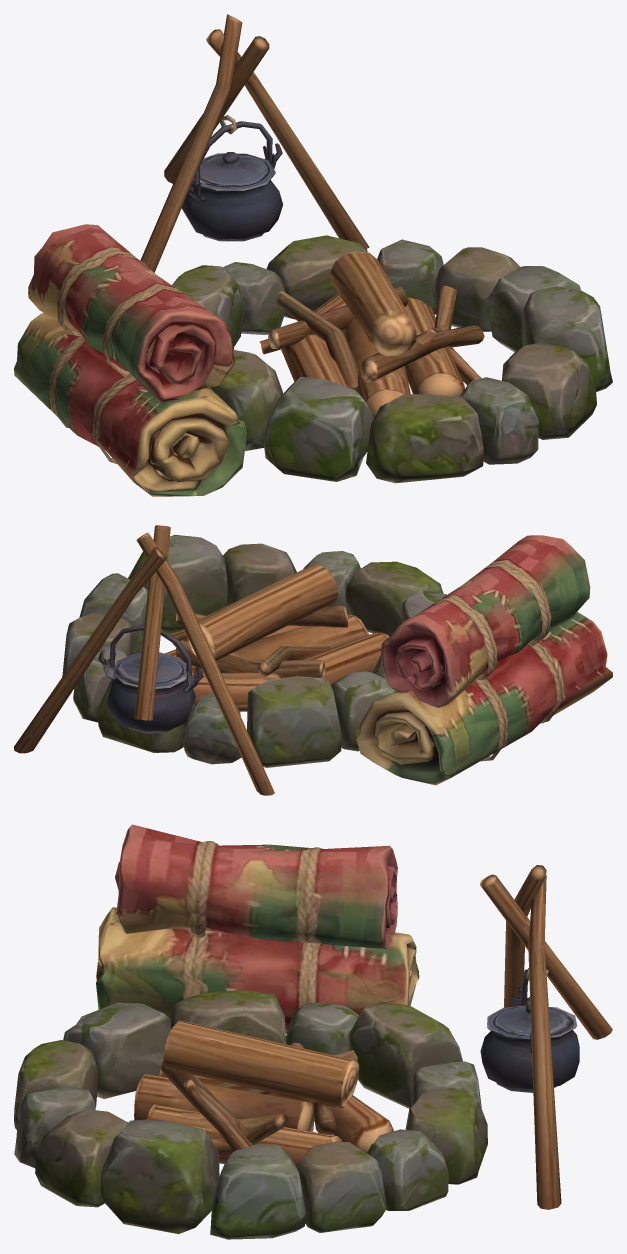
Rendered from cozy-campfire.glb.
The picture shows the model from 3 angles, top to bottom: view 1: azimuth 30°, elevation 25°; view 2: azimuth 150°, elevation 25°; view 3: azimuth 270°, elevation 25°; orthographic projection. The views are drawn at different scales.
Size of the model in its own units: 1.98 by 1 by 1.95.
1 material, 1 textured.
